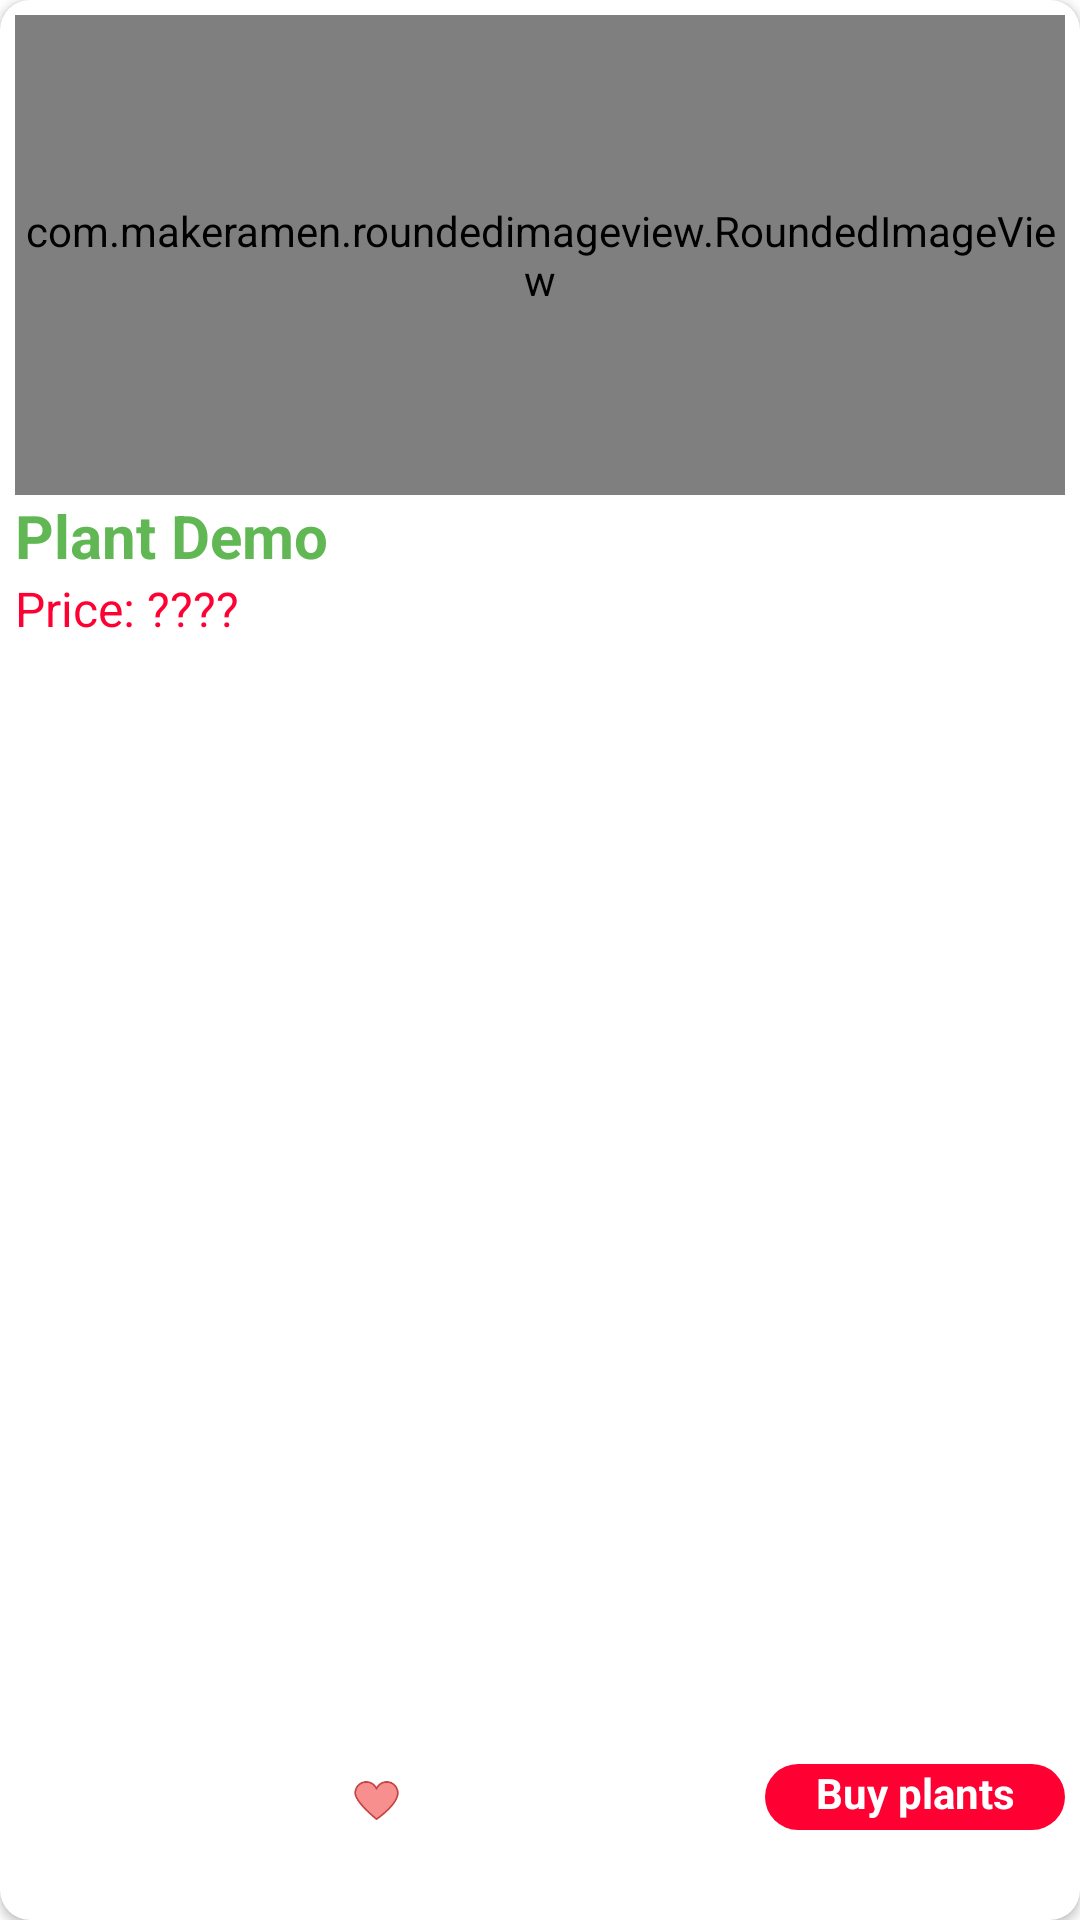

Locate icon controls on the screen. Image size 1080*1920, boxes as (x1, y1, x2, y2).
heart: (354, 1781, 399, 1820)
